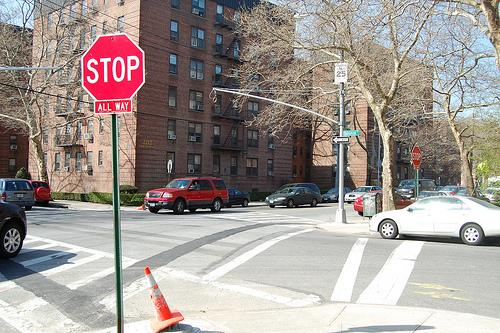Pole: (110, 114, 126, 332), (415, 171, 418, 200)
Sign: (80, 34, 146, 100), (412, 145, 423, 167)
